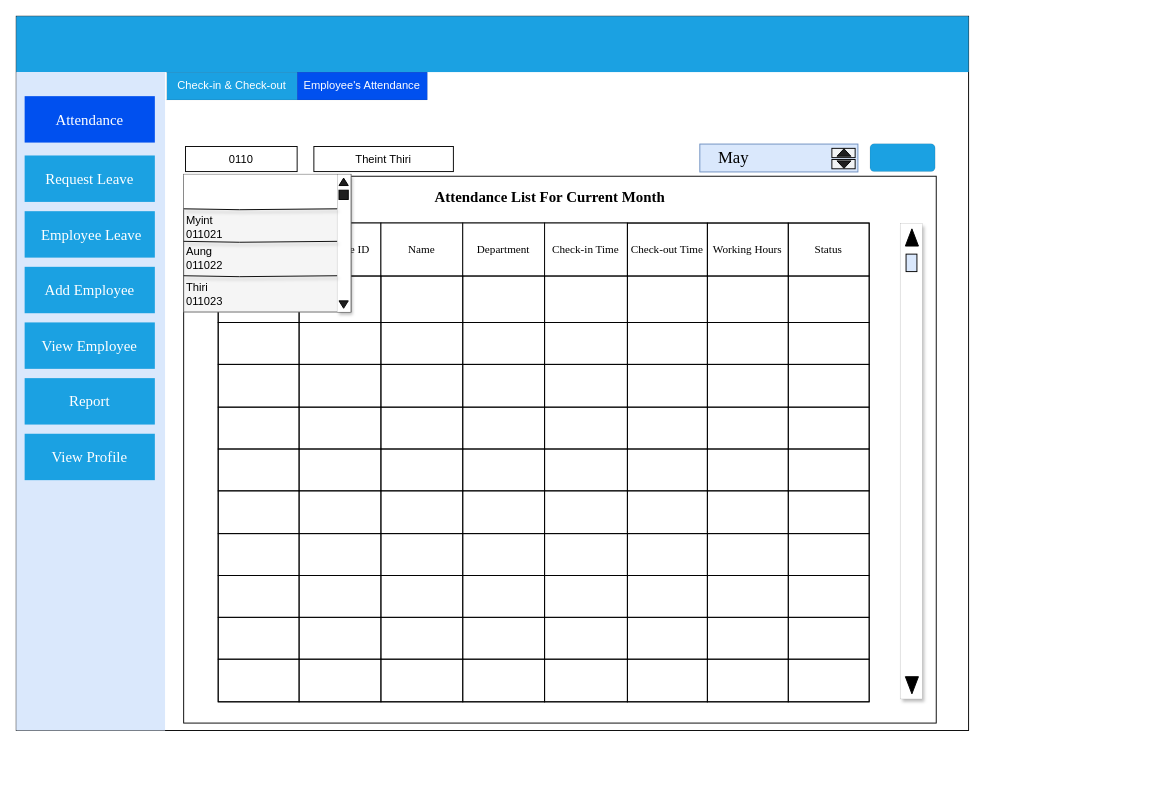
Some shapes in this 1165 by 795 pixel diagram are drawn without their labels. Each missing label, with the centre of its shape:
"Human Resource Management System" goes at (x=492, y=44).
"Search" goes at (x=902, y=157).
"Theint Thiri 011020" goes at (x=260, y=191).
